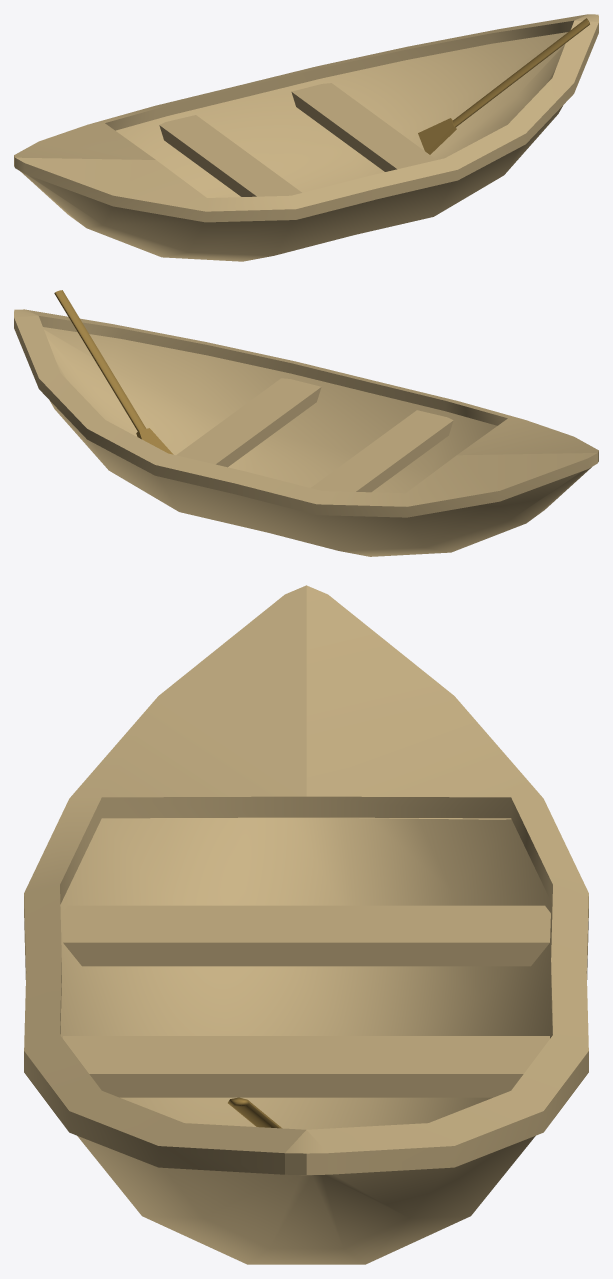
File: boat.fbx
3 renders of one model, top to bottom at view 1: azimuth 30°, elevation 25°; view 2: azimuth 150°, elevation 25°; view 3: azimuth 270°, elevation 25°, orthographic. The views are drawn at different scales.
Visible parts, largest first — view 1: boat; view 2: boat; view 3: boat.
Boxes of the visible parts, x1,y1,x2,y2 form: boat: [14, 14, 598, 261]; boat: [14, 290, 598, 556]; boat: [24, 585, 588, 1264].
Bounding box in the file's own units: 441 × 114 × 185.
